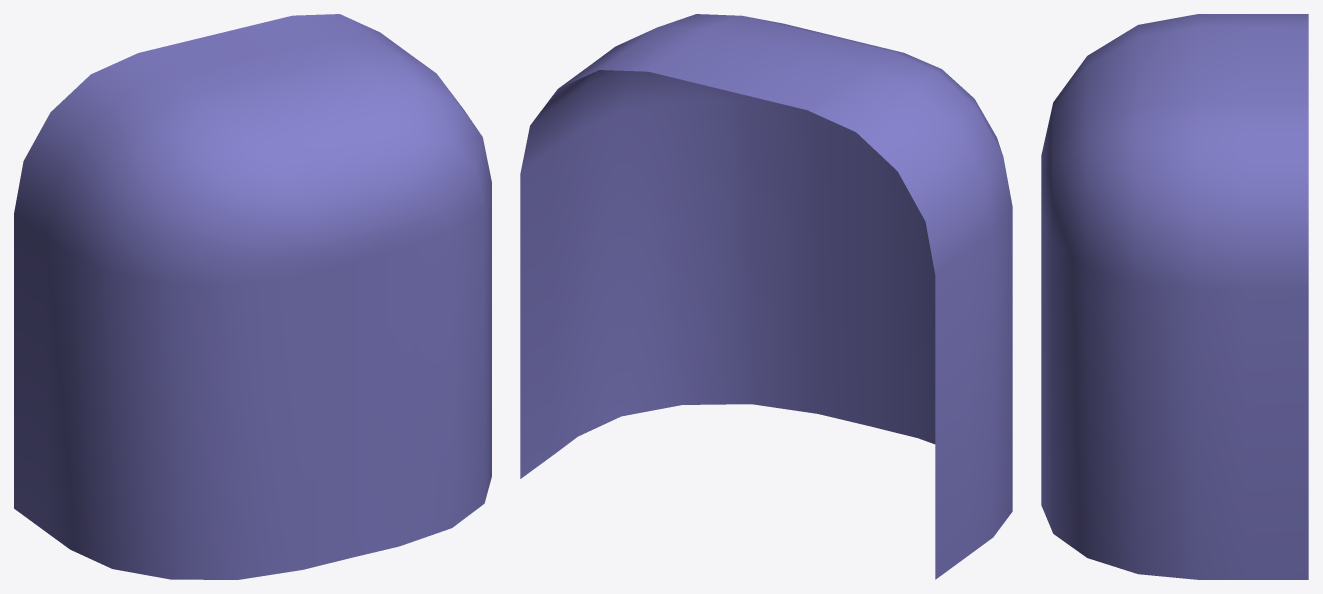
The model's file is wall_cap.glb.
3 renders of one model, left to right at view 1: azimuth 30°, elevation 25°; view 2: azimuth 150°, elevation 25°; view 3: azimuth 270°, elevation 25°, orthographic. The views are drawn at different scales.
Parts seen in each view (by area): view 1: Wall_cap; view 2: Wall_cap; view 3: Wall_cap.
Boxes of the visible parts, x1,y1,x2,y2 form: Wall_cap: [14, 14, 491, 579]; Wall_cap: [520, 14, 1012, 579]; Wall_cap: [1041, 14, 1308, 579].
Size of the model in its own units: 0.1979 by 0.2 by 0.1156.
1 material, 1 textured.
